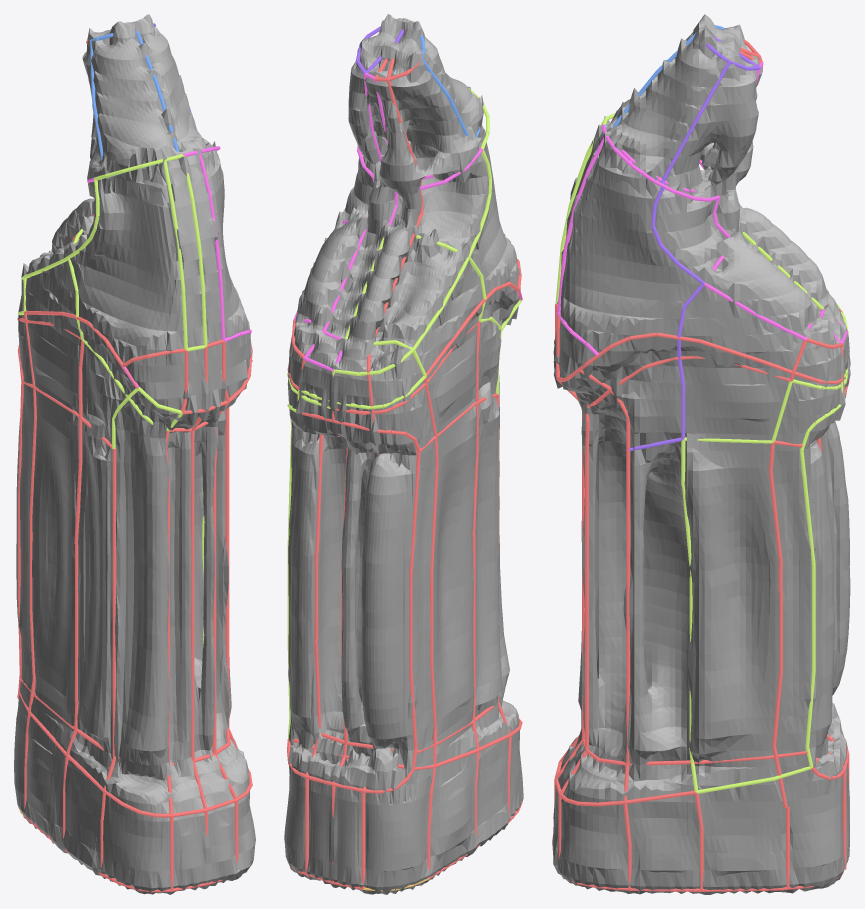
The model's file is flowrep_bottle.gltf.
The picture shows the model from 3 angles, left to right: view 1: azimuth 30°, elevation 25°; view 2: azimuth 150°, elevation 25°; view 3: azimuth 270°, elevation 25°; orthographic projection. The views are drawn at different scales.
Size of the model in its own units: 0.1867 by 0.9609 by 0.3083.
